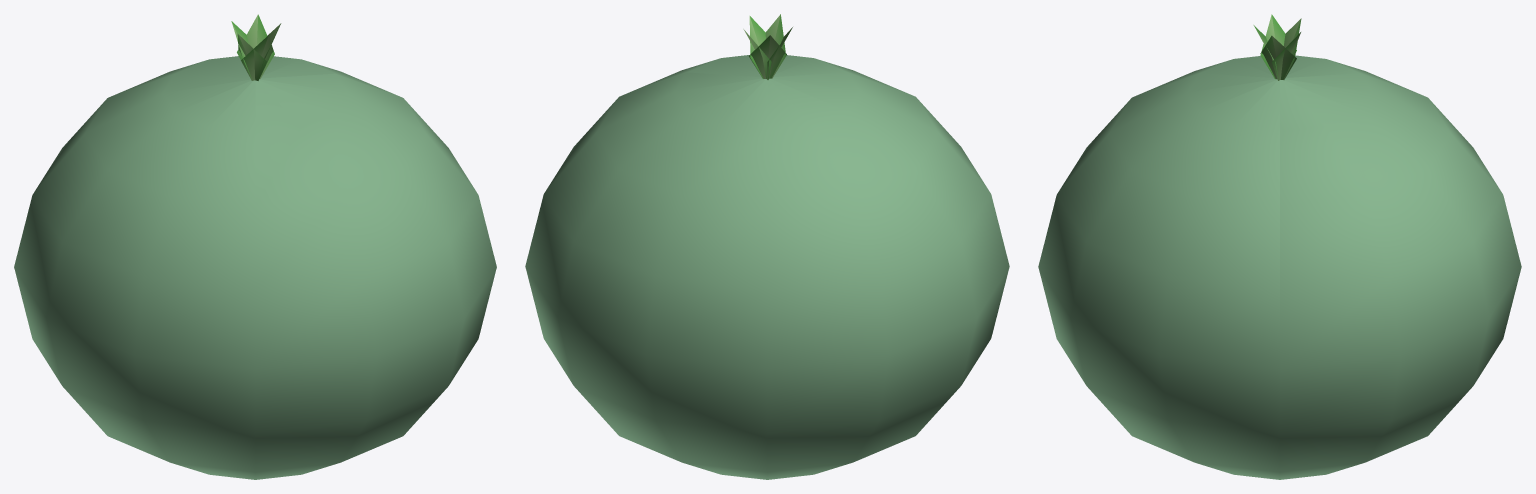
File: fruit-blueberry-unripe.glb
3 renders of one model, left to right at view 1: azimuth 30°, elevation 25°; view 2: azimuth 150°, elevation 25°; view 3: azimuth 270°, elevation 25°, orthographic.
Visible parts, largest first — view 1: fruit-blueberry-unripe; view 2: fruit-blueberry-unripe; view 3: fruit-blueberry-unripe.
Boxes of the visible parts, x1=… form: fruit-blueberry-unripe: x1=14, y1=14, x2=496, y2=479; fruit-blueberry-unripe: x1=525, y1=14, x2=1009, y2=479; fruit-blueberry-unripe: x1=1038, y1=14, x2=1521, y2=479.
Size of the model in its own units: 0.24 by 0.2359 by 0.24.
